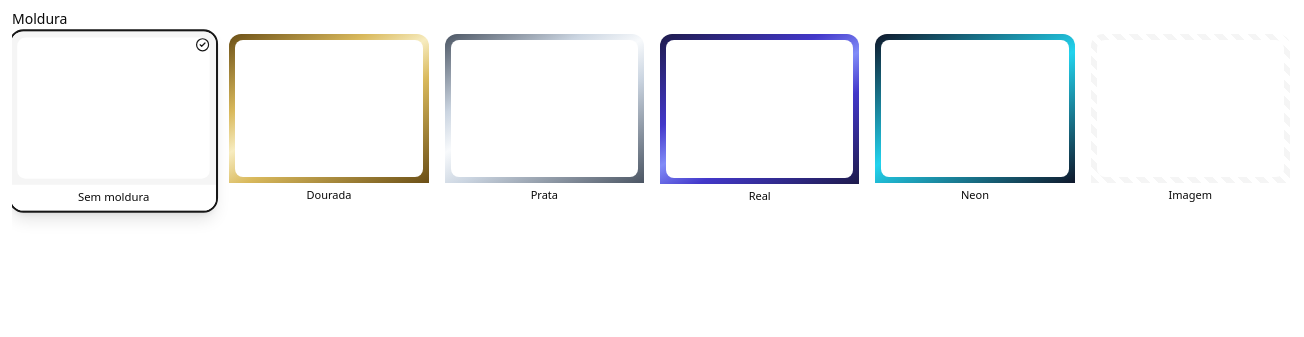
CardFramePicker › warns when the address is refused, instead of silently doing nothing
Click the button titled "Imagem": (1190,121) 1089,32 -> 1292,210
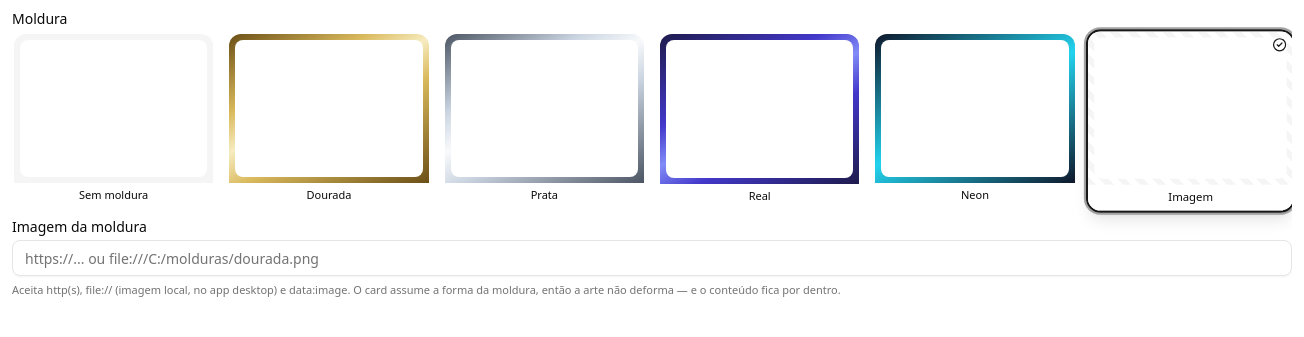
In the field labelled "Imagem da moldura": (652,258) 12,240 -> 1292,276, type "javascript:alert(1)"
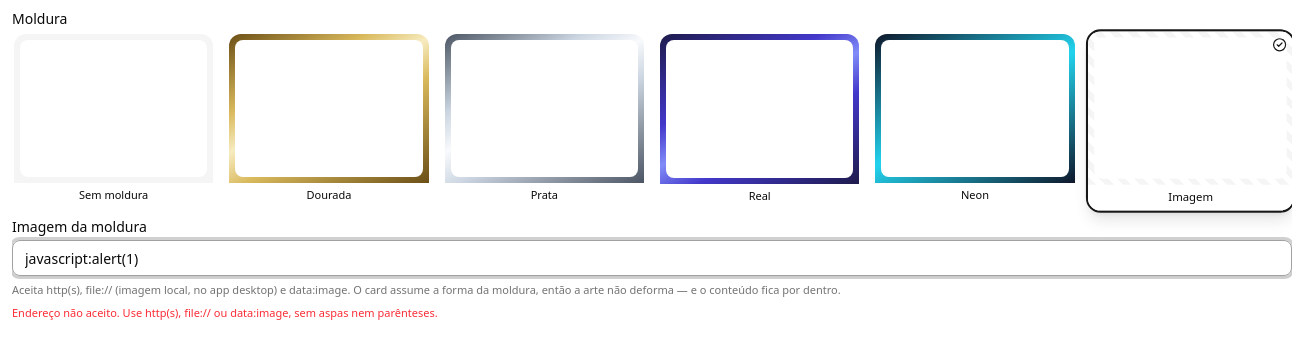
Now the text "Endereço não aceito" is shown, box 12,304 -> 438,320
